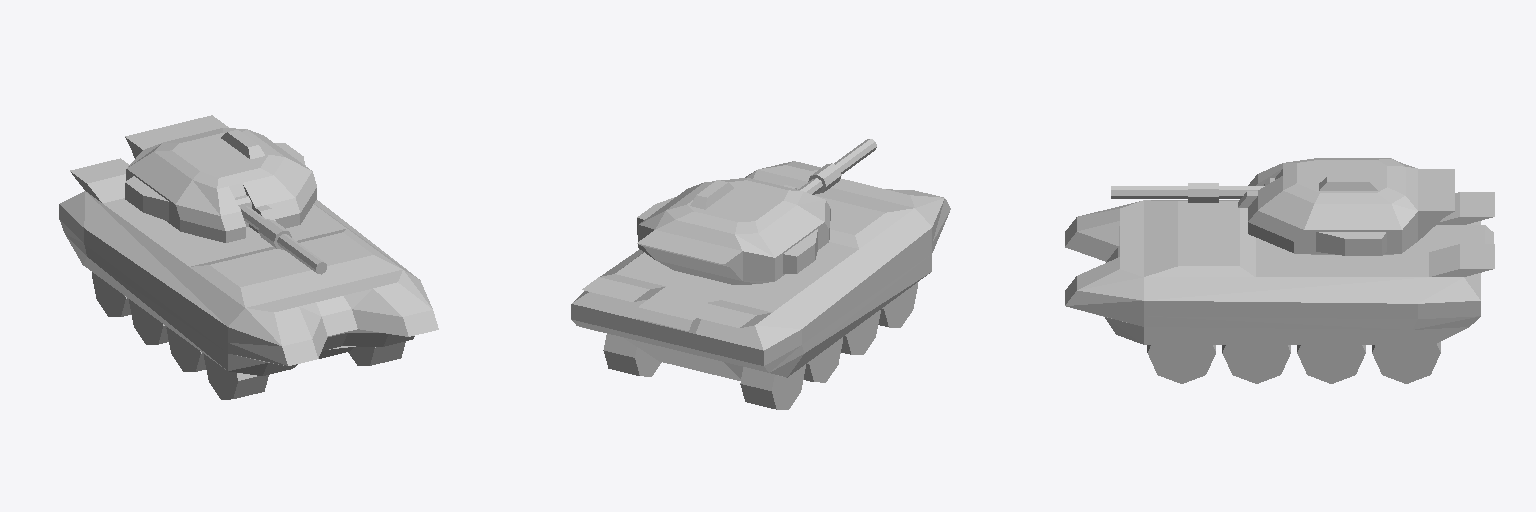
Rendered from lynx.obj.
3 renders of one model, left to right at view 1: azimuth 30°, elevation 25°; view 2: azimuth 150°, elevation 25°; view 3: azimuth 270°, elevation 25°, orthographic.
Visible parts, largest first — view 1: hull, turret, wheels1, barrel, wheels3, wheels2, wheels4; view 2: hull, turret, wheels4, barrel, wheels1, wheels2, wheels3; view 3: hull, turret, wheels4, wheels1, wheels3, wheels2, barrel.
Part boxes in pixels (x1,y1,x2,y2): hull: (59, 158, 438, 375); turret: (125, 115, 316, 242); wheels1: (204, 341, 405, 399); barrel: (241, 206, 326, 274); wheels3: (129, 299, 168, 344); wheels2: (166, 327, 205, 371); wheels4: (92, 272, 131, 316); hull: (571, 161, 950, 380); turret: (637, 178, 830, 284); wheels4: (603, 334, 805, 409); barrel: (798, 139, 876, 194); wheels1: (878, 282, 917, 327); wheels2: (841, 310, 880, 354); wheels3: (804, 337, 842, 382); hull: (1065, 192, 1494, 344); turret: (1238, 158, 1454, 255); wheels4: (1372, 342, 1440, 383); wheels1: (1147, 345, 1215, 383); wheels3: (1297, 345, 1365, 383); wheels2: (1222, 345, 1290, 383); barrel: (1111, 183, 1264, 202).
Bounding box in the file's own units: 24.65 × 20 × 44.74.